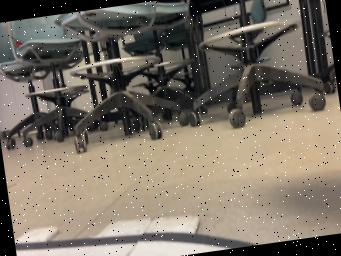street: (15, 232, 257, 256), (15, 232, 257, 256), (15, 232, 257, 256)
